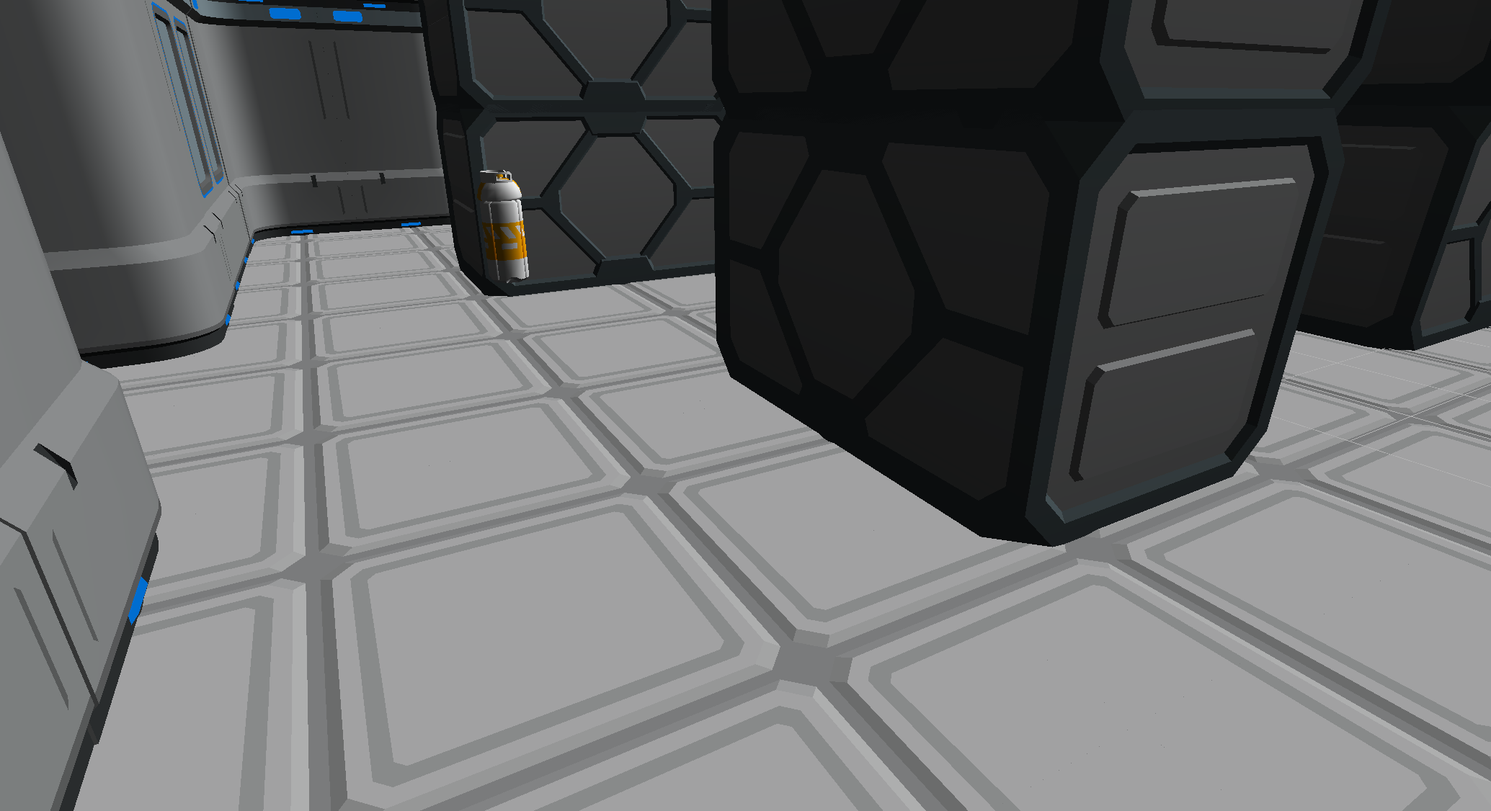yellow_barrel: (474, 169, 530, 295)
